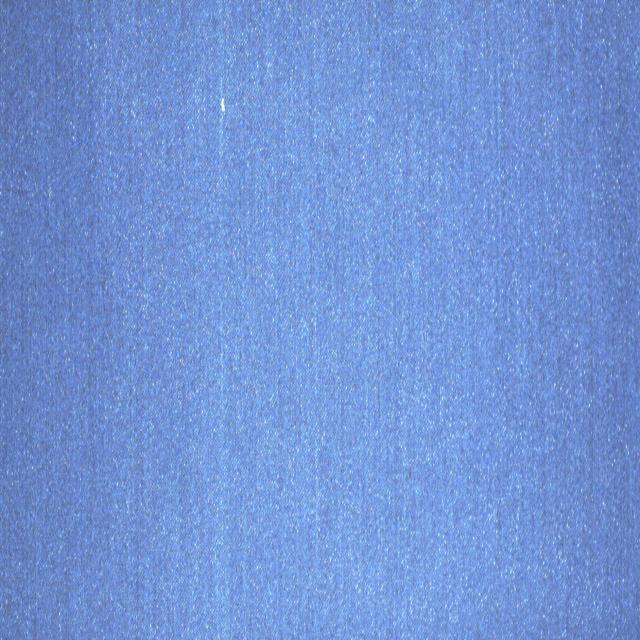Knot: (220, 97, 225, 112)
